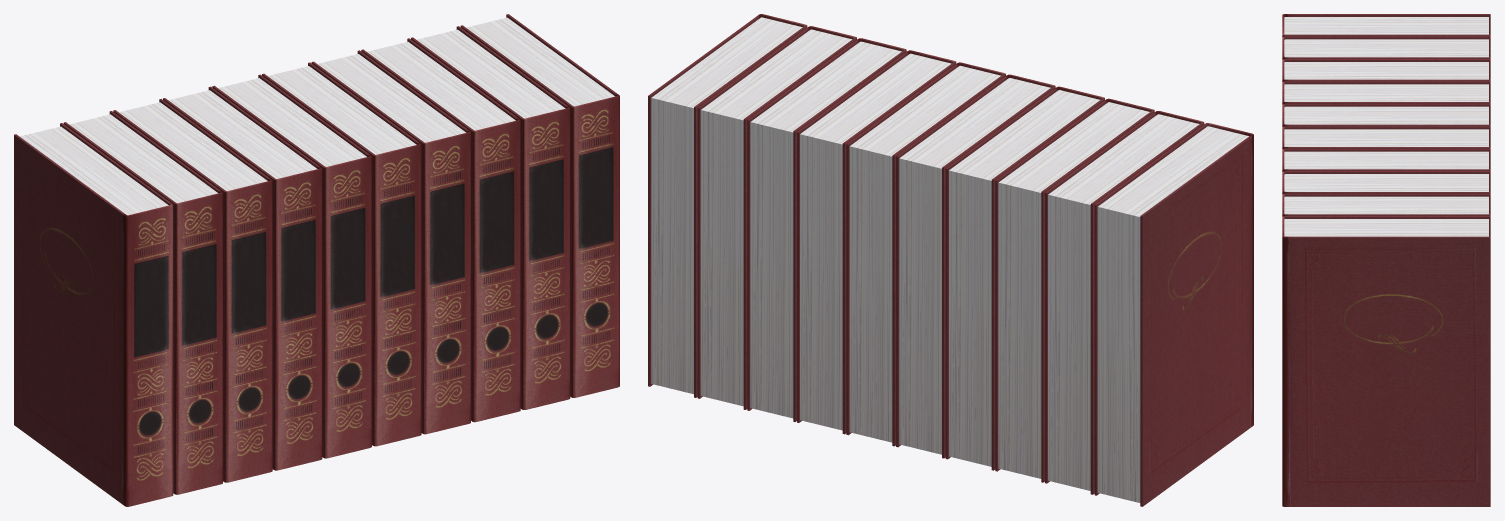
Rendered from RetroBooks01_3_10x.FBX.
3 renders of one model, left to right at view 1: azimuth 30°, elevation 25°; view 2: azimuth 150°, elevation 25°; view 3: azimuth 270°, elevation 25°, orthographic. The views are drawn at different scales.
Visible parts, largest first — view 1: RetroBooks01_3_10x; view 2: RetroBooks01_3_10x; view 3: RetroBooks01_3_10x.
Boxes of the visible parts, x1,y1,x2,y2 form: RetroBooks01_3_10x: (14, 14, 619, 506); RetroBooks01_3_10x: (648, 14, 1253, 506); RetroBooks01_3_10x: (1282, 14, 1490, 506).
Bounding box in the file's own units: 4.02 × 2.26 × 1.59.
